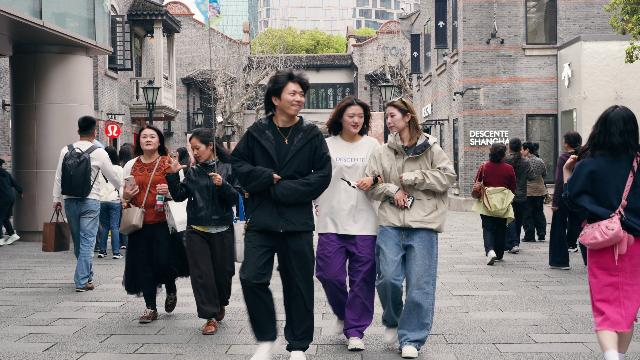person: (228, 66, 332, 360), (360, 97, 456, 357), (558, 104, 640, 360), (313, 96, 381, 351), (164, 128, 243, 335), (119, 124, 191, 324), (53, 115, 125, 292), (470, 142, 517, 265), (548, 130, 583, 270), (502, 138, 536, 254), (98, 146, 124, 259), (522, 141, 548, 243), (0, 156, 24, 246), (118, 146, 134, 250), (532, 141, 550, 201)
